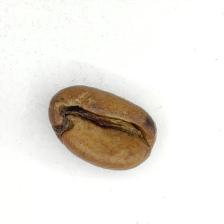NG: (54, 97, 151, 159)
